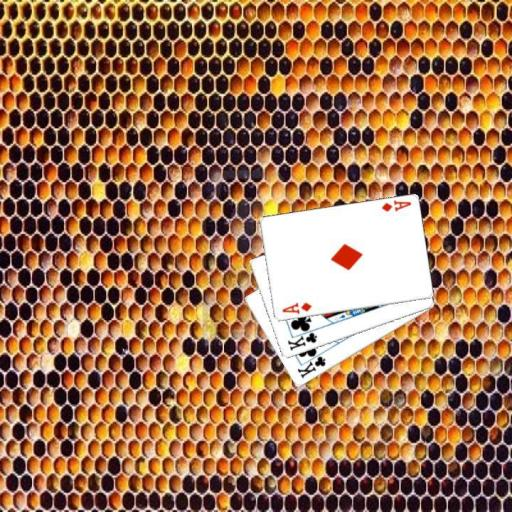AD: (279, 299, 313, 316), (379, 198, 413, 213)
KC: (294, 348, 327, 380), (285, 325, 319, 352)
